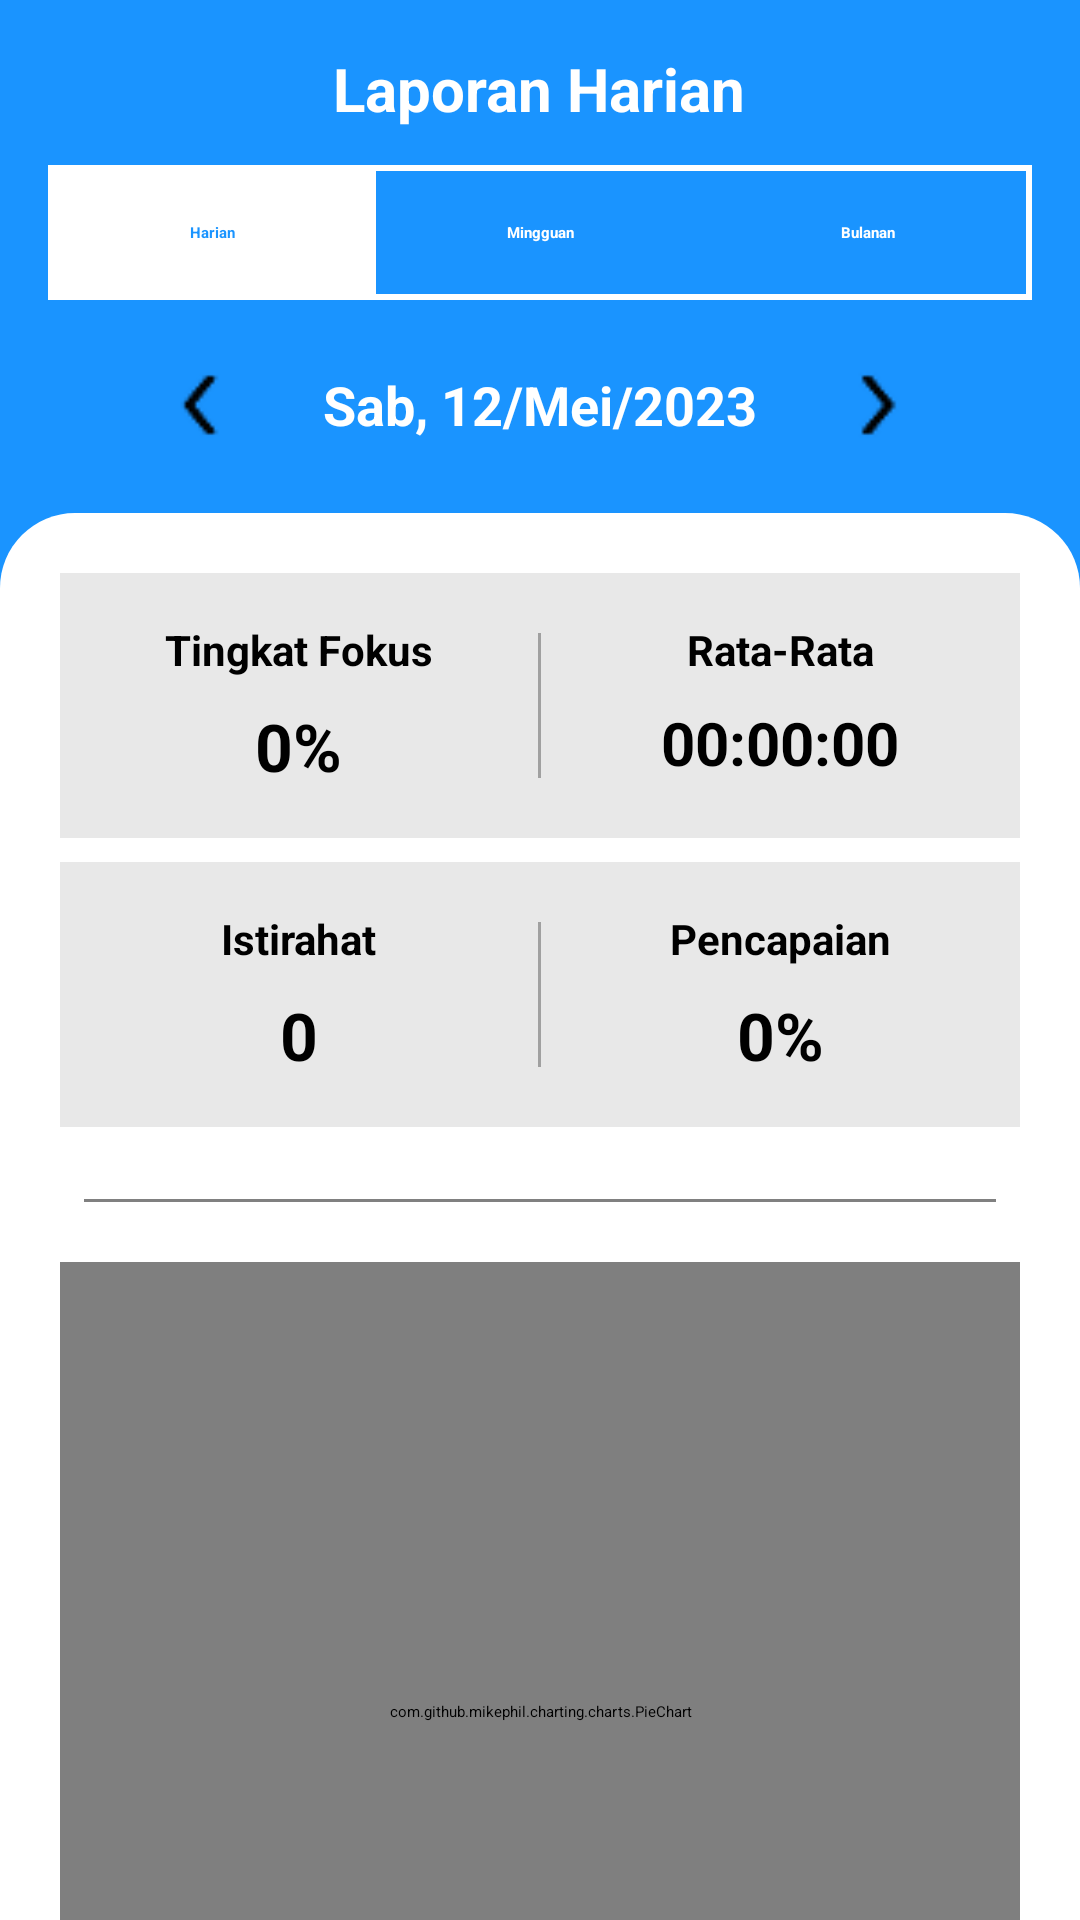

Icons on this 1080w x 1920h Android screen, each with the point to tap as (x,y):
arrow left: (200,405)
arrow right: (878,405)
